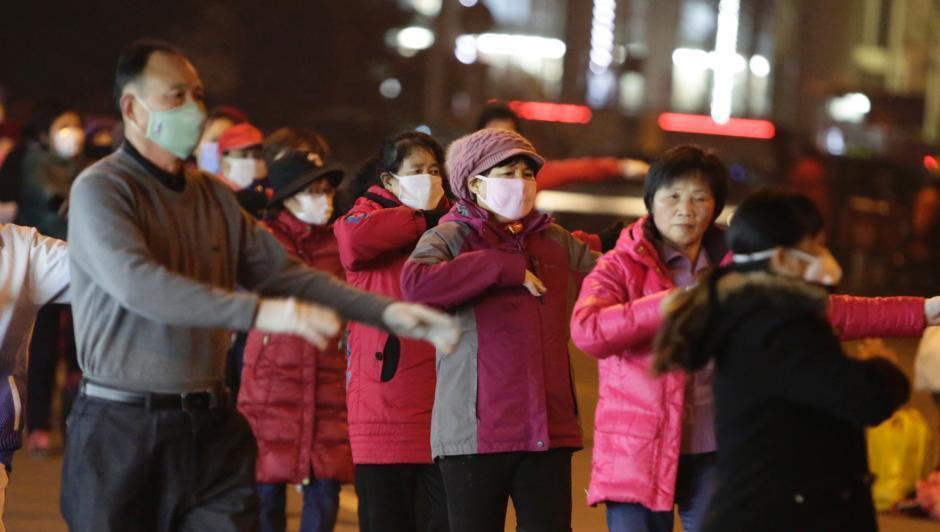NONE: (655, 190, 718, 244)
OK: (139, 72, 221, 154), (781, 232, 836, 294), (394, 158, 446, 210), (480, 166, 532, 218), (201, 127, 248, 177), (288, 181, 336, 225), (223, 147, 265, 187), (54, 121, 88, 157)
